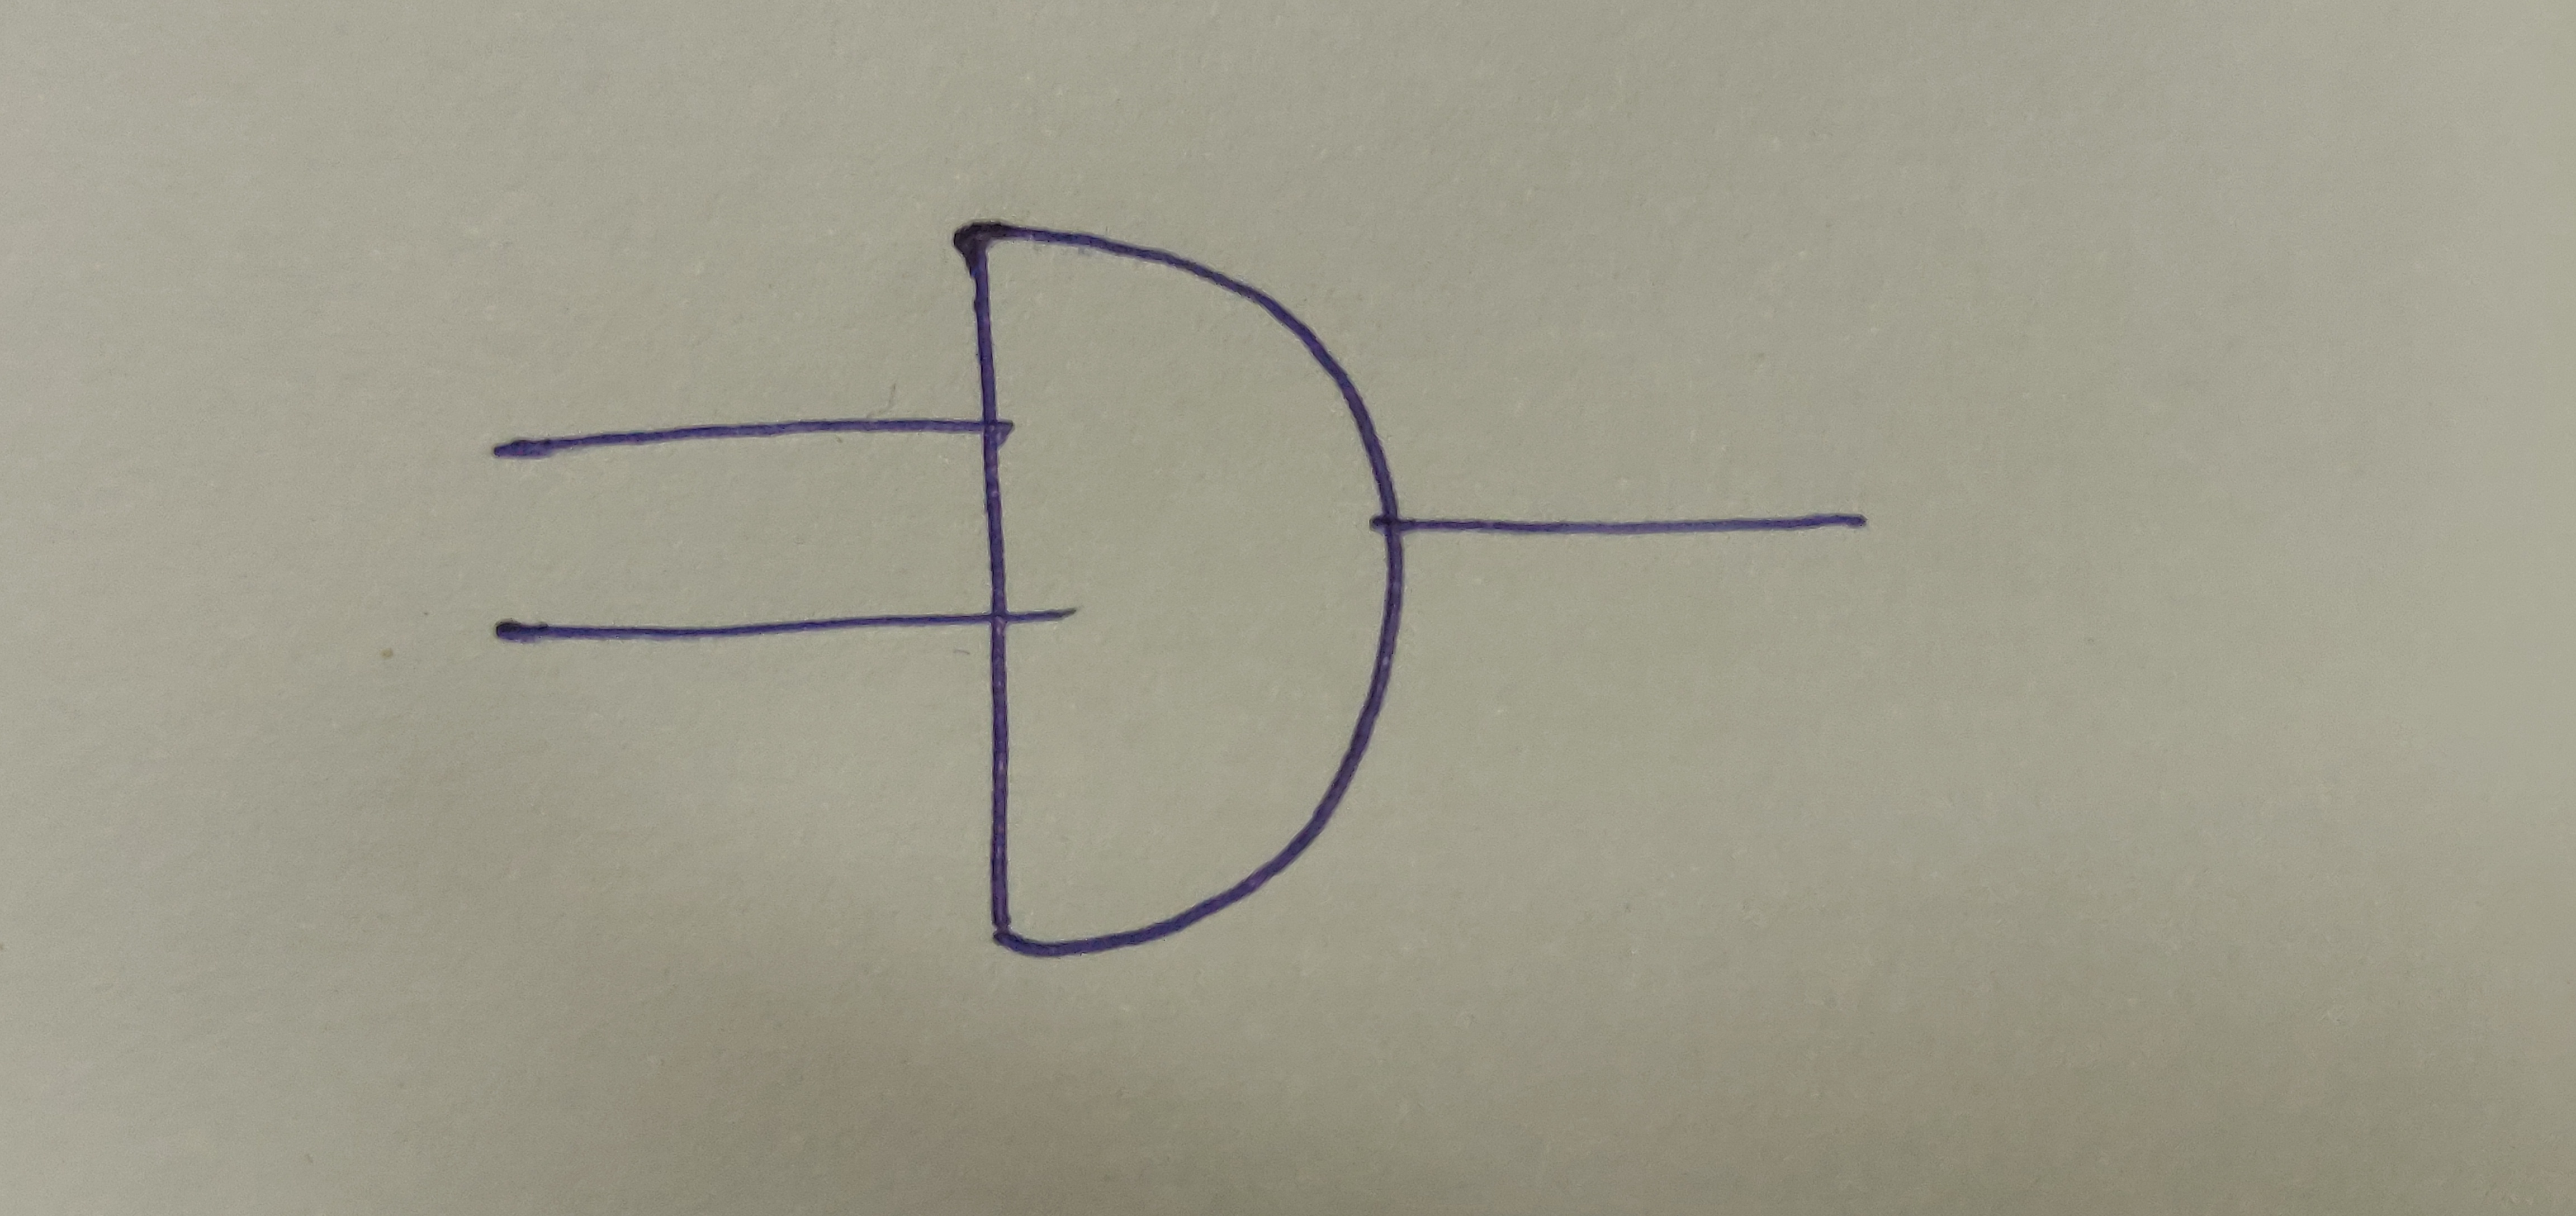and: (950, 219, 1408, 958)
